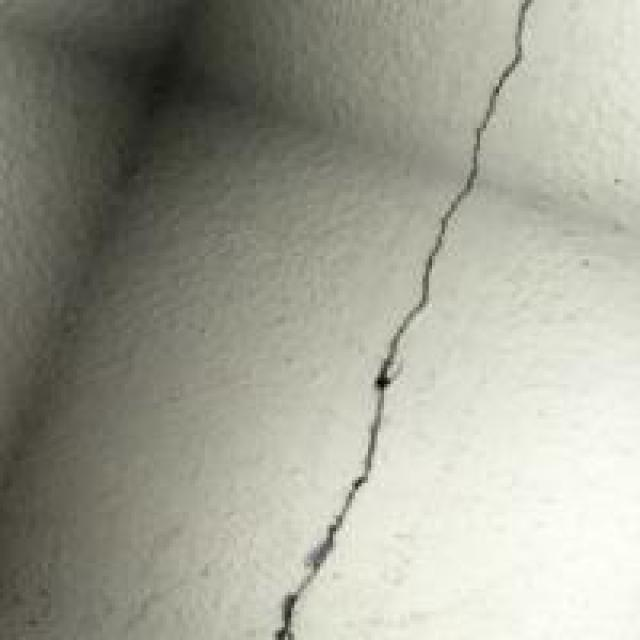crack: (262, 0, 576, 637)
